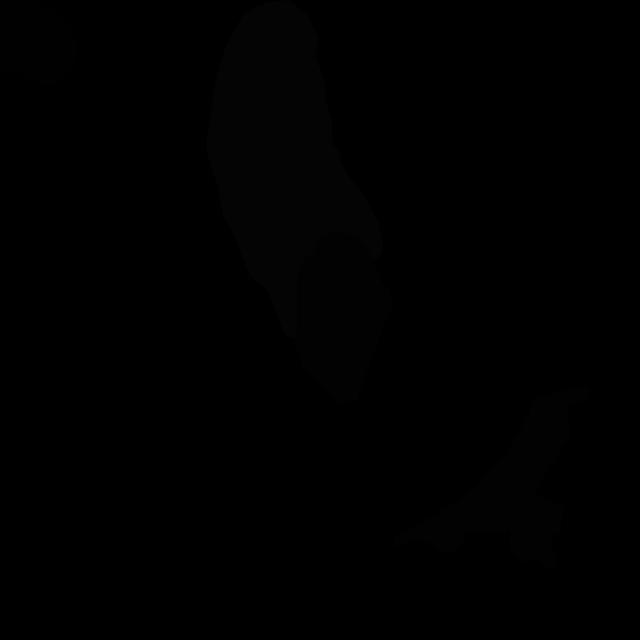cardboard: (394, 385, 590, 570), (293, 231, 393, 404)
soft_plastic: (206, 0, 383, 339)
